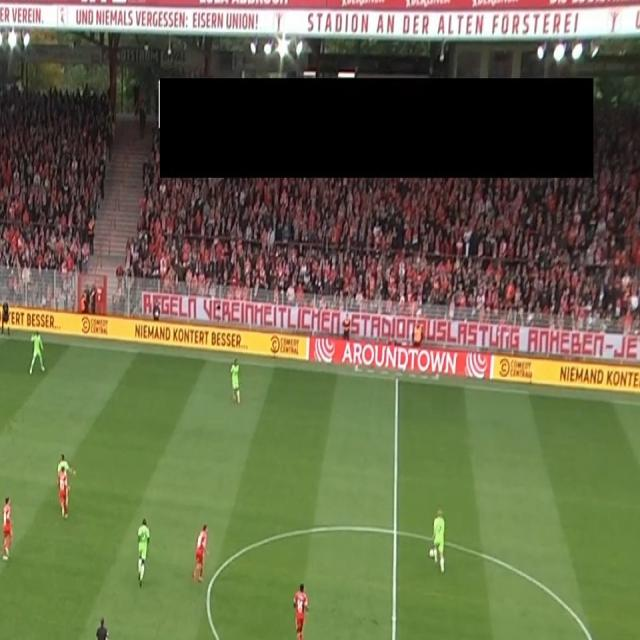ball: (428, 545, 436, 560)
